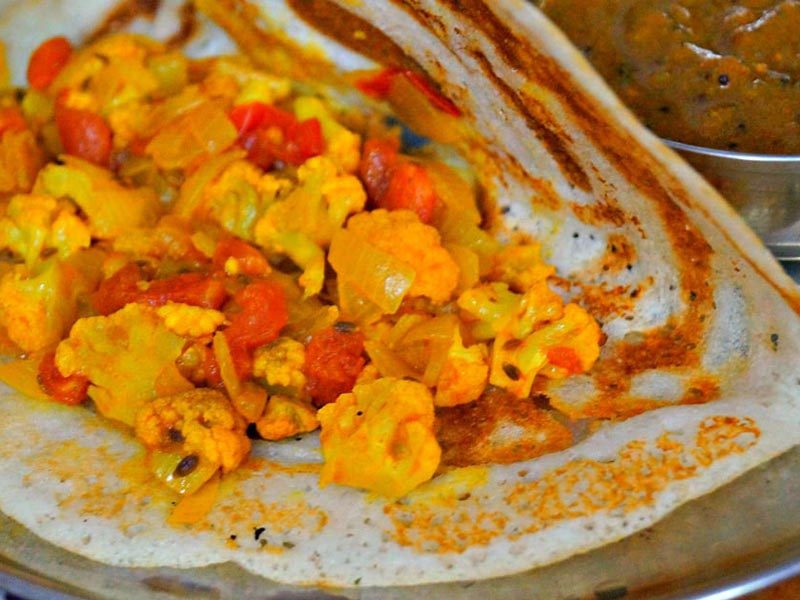dosa: (2, 3, 800, 589)
